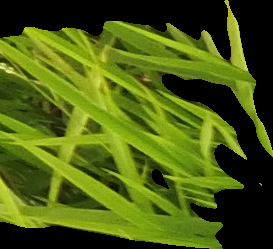grass: (1, 1, 271, 248)
